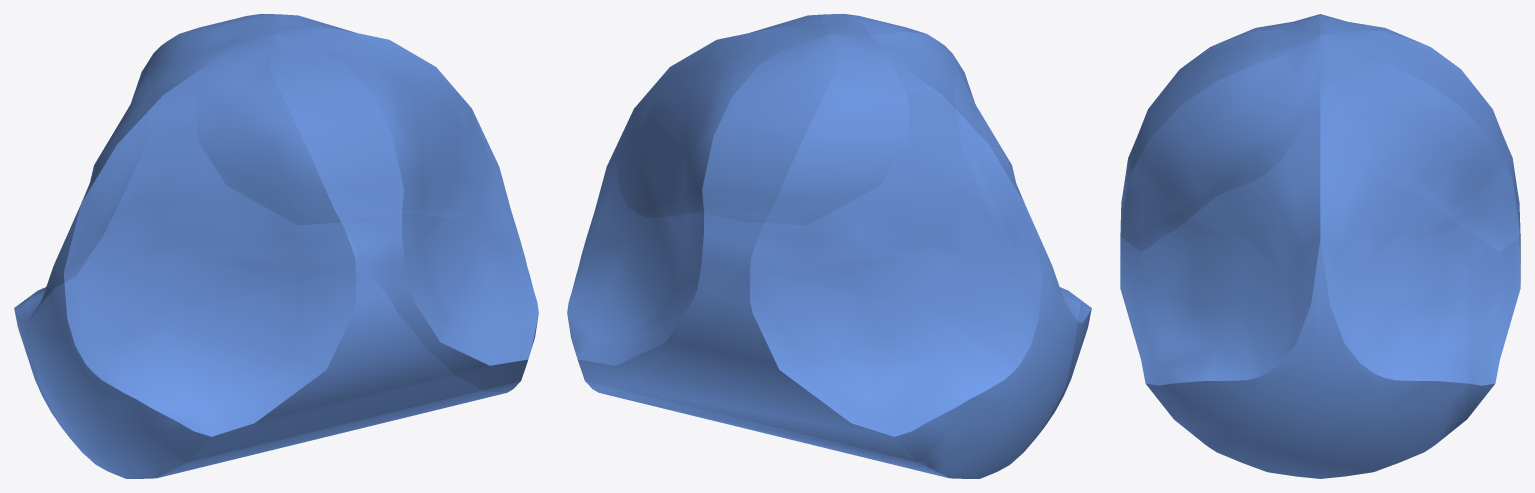
The picture shows the model from 3 angles, left to right: view 1: azimuth 30°, elevation 25°; view 2: azimuth 150°, elevation 25°; view 3: azimuth 270°, elevation 25°; orthographic projection. The views are drawn at different scales.
Parts seen in each view (by area): view 1: SketchUp; view 2: SketchUp; view 3: SketchUp.
Part boxes in pixels (box(x1,y1,x2,y2)): SketchUp: box(14, 14, 538, 478); SketchUp: box(567, 14, 1091, 478); SketchUp: box(1120, 14, 1520, 478).
Bounding box in the file's own units: 212 × 174 × 174.
